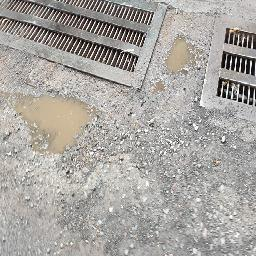water accumulation: (0, 90, 100, 155), (166, 32, 198, 77)
